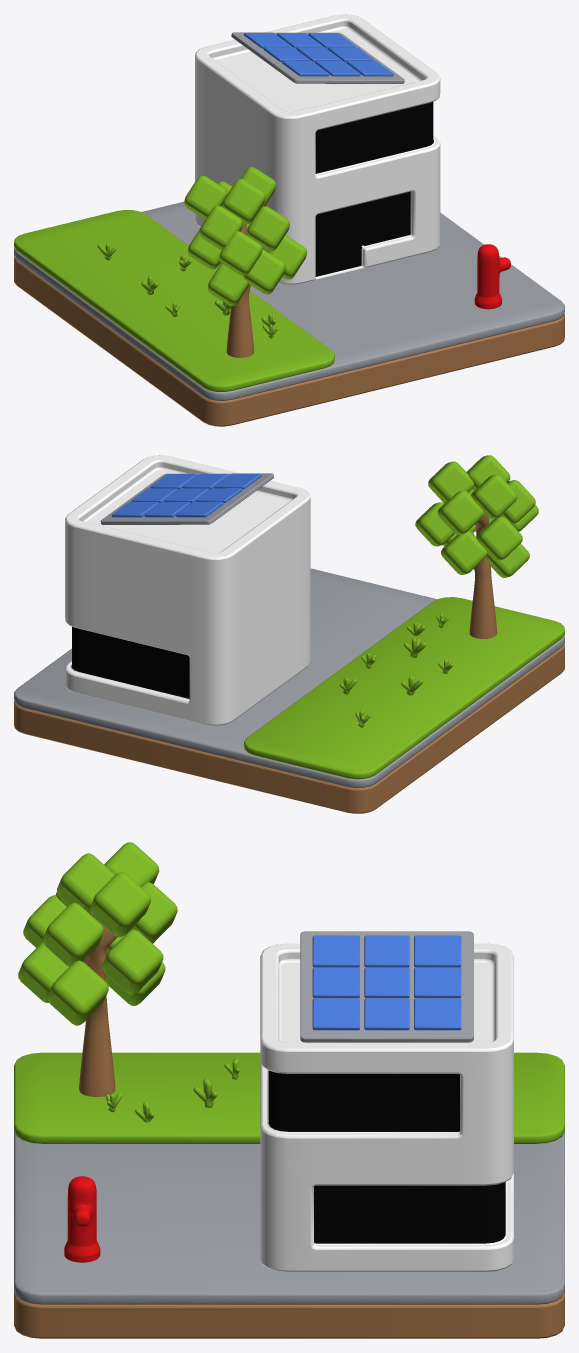
The model's file is cartoon_building.glb.
3 views of the same model, one above another, from view 1: azimuth 30°, elevation 25°; view 2: azimuth 150°, elevation 25°; view 3: azimuth 270°, elevation 25° (orthographic). The views are drawn at different scales.
Visible parts, largest first — view 1: Plane.003_3, Plane.001_1, Plane.002_2, Plane_0, Plane.005_26, Plane.004_27, Circle_28, Vert_17, Cube.001_5, Cube.007_11, Cube_4, Cube.009_13 (+6 smaller); view 2: Plane.003_3, Plane.002_2, Plane.001_1, Plane_0, Plane.005_26, Plane.004_27, Vert_17, Cube.008_12, Cube.010_14, Cube.003_7, Cube.011_15, Cube.005_9 (+4 smaller); view 3: Plane.003_3, Plane.001_1, Plane.002_2, Plane_0, Plane.005_26, Plane.004_27, Vert_17, Circle_28, Cube.004_8, Cube.002_6, Cube.005_9, Cube.001_5 (+6 smaller).
Part boxes in pixels (x1,y1,x2,y2): Plane.003_3: [195, 14, 440, 284]; Plane.001_1: [14, 201, 564, 400]; Plane.002_2: [14, 210, 334, 391]; Plane_0: [14, 257, 564, 426]; Plane.005_26: [244, 33, 393, 76]; Plane.004_27: [231, 32, 404, 83]; Circle_28: [474, 244, 510, 309]; Vert_17: [226, 223, 254, 357]; Cube.001_5: [246, 206, 289, 251]; Cube.007_11: [219, 231, 262, 276]; Cube_4: [222, 178, 265, 224]; Cube.009_13: [199, 205, 242, 250]; Plane.003_3: [65, 455, 310, 725]; Plane.002_2: [244, 597, 564, 779]; Plane.001_1: [14, 568, 564, 788]; Plane_0: [14, 644, 564, 813]; Plane.005_26: [111, 474, 261, 517]; Plane.004_27: [100, 473, 273, 524]; Vert_17: [469, 514, 497, 638]; Cube.008_12: [476, 516, 522, 560]; Cube.010_14: [471, 474, 517, 518]; Cube.003_7: [437, 490, 484, 534]; Cube.011_15: [441, 531, 487, 574]; Cube.005_9: [428, 461, 474, 502]; Plane.003_3: [260, 943, 513, 1271]; Plane.001_1: [14, 1131, 564, 1304]; Plane.002_2: [14, 1052, 564, 1143]; Plane_0: [14, 1292, 564, 1338]; Plane.005_26: [312, 935, 461, 1030]; Plane.004_27: [300, 931, 473, 1042]; Vert_17: [79, 916, 117, 1096]; Circle_28: [64, 1176, 100, 1262]; Cube.004_8: [102, 929, 163, 994]; Cube.002_6: [47, 960, 108, 1025]; Cube.005_9: [90, 872, 150, 937]; Cube.001_5: [43, 903, 103, 966].
Size of the model in its own units: 7.52 by 4.52 by 7.52.
